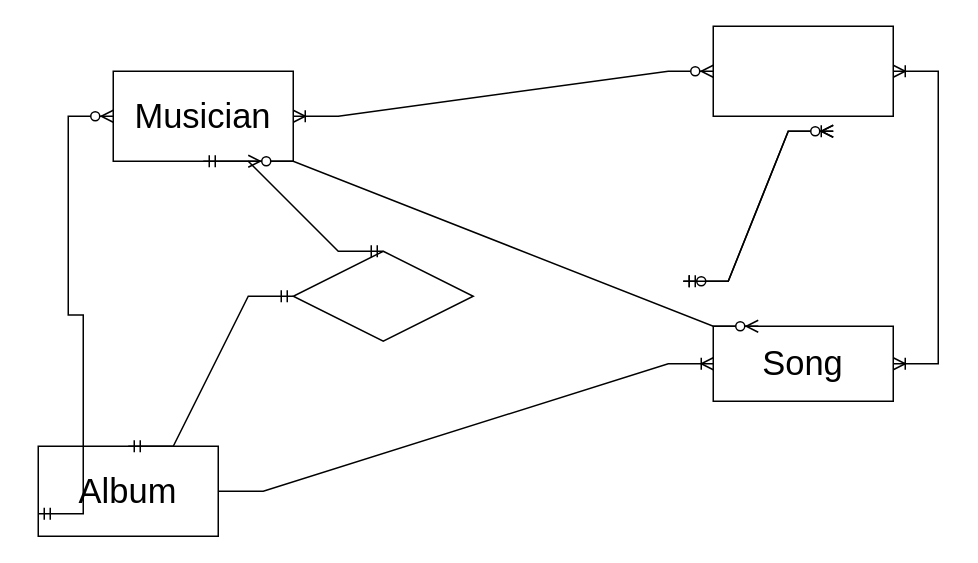
Some shapes in this 978 by 563 pixel diagram are drawn without their labels. Each missing label, with the centre of its shape:
"Instrument" belongs at (802,70).
"produce" belongs at (382,295).
